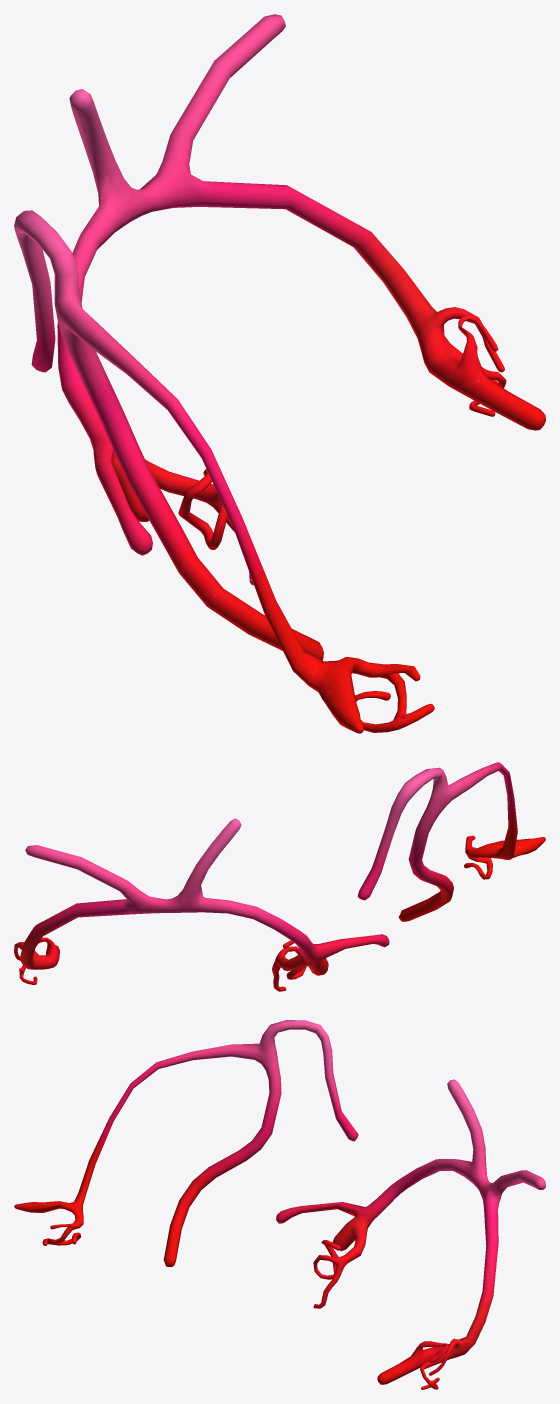
The model's file is Lymph.fbx.
3 renders of one model, top to bottom at view 1: azimuth 30°, elevation 25°; view 2: azimuth 150°, elevation 25°; view 3: azimuth 270°, elevation 25°, orthographic. The views are drawn at different scales.
Parts seen in each view (by area): view 1: Lymph; view 2: Lymph; view 3: Lymph.
Part boxes in pixels (bbox=[...]): Lymph: bbox=[14, 14, 545, 733]; Lymph: bbox=[14, 762, 545, 991]; Lymph: bbox=[14, 1020, 545, 1389].
Bounding box in the file's own units: 5360 × 3606 × 7626.
